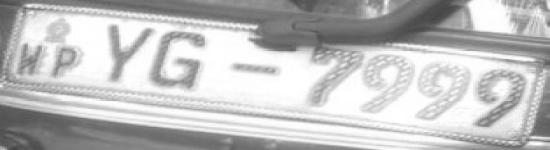-: (225, 60, 283, 80)
7: (306, 43, 366, 112)
9: (414, 58, 471, 122), (472, 66, 528, 130), (361, 52, 414, 116)
G: (152, 26, 209, 94)
P: (44, 44, 86, 80)
W: (14, 42, 46, 77)
Y: (102, 22, 155, 84)
